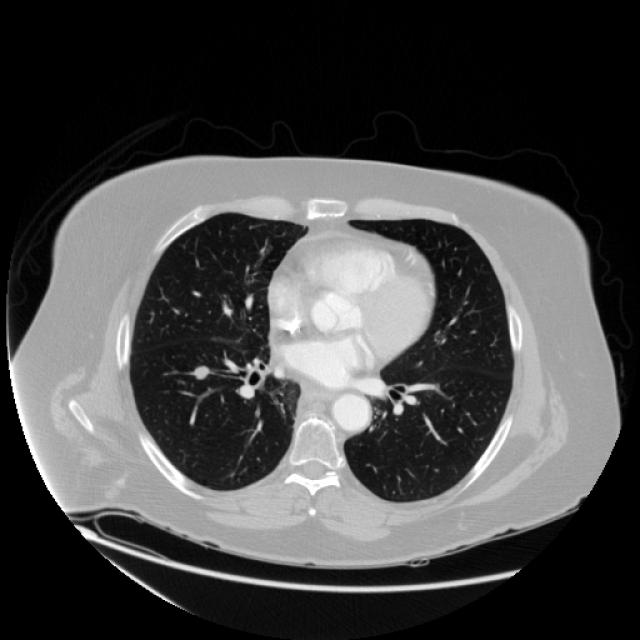nodule: (184, 355, 216, 387)
